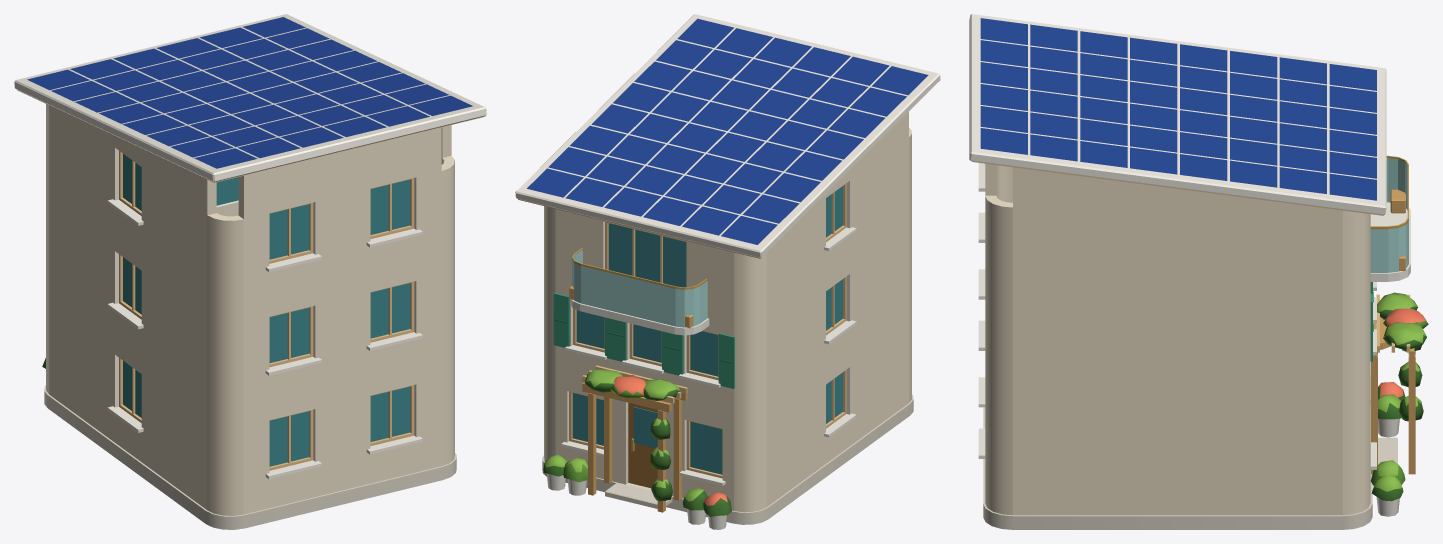
Rendered from house_b.glb.
The picture shows the model from 3 angles, left to right: view 1: azimuth 30°, elevation 25°; view 2: azimuth 150°, elevation 25°; view 3: azimuth 270°, elevation 25°; orthographic projection. The views are drawn at different scales.
Visible parts, largest first — view 1: house; view 2: house, plants; view 3: house, plants.
Part boxes in pixels (<box>): house: <box>14,14,486,529</box>; house: <box>515,14,940,524</box>; plants: <box>543,369,731,529</box>; house: <box>969,14,1415,529</box>; plants: <box>1370,292,1428,516</box>.
Bounding box in the file's own units: 6.5 × 8.36 × 9.07.
